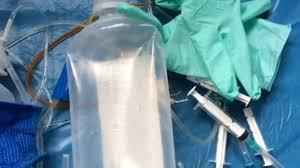Iv_Bottle: (67, 0, 175, 167)
